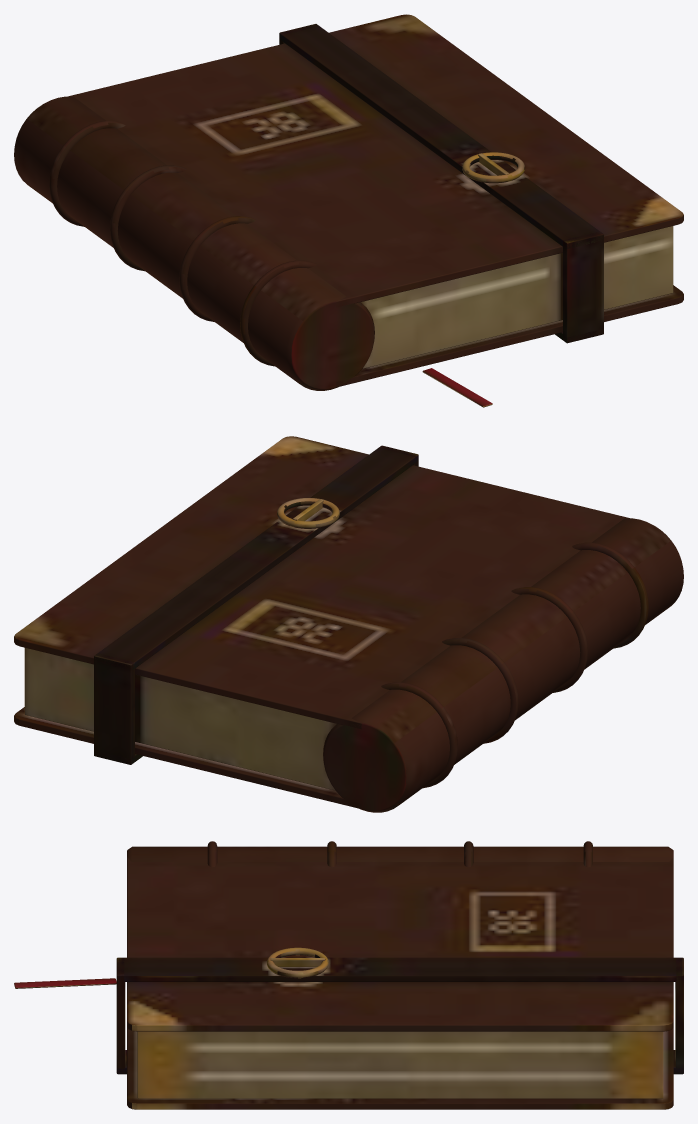
Rendered from ledger_book.glb.
3 views of the same model, one above another, from view 1: azimuth 30°, elevation 25°; view 2: azimuth 150°, elevation 25°; view 3: azimuth 270°, elevation 25° (orthographic).
Visible parts, largest first — view 1: ledger_book; view 2: ledger_book; view 3: ledger_book.
Part boxes in pixels (left/top/right/bottom): ledger_book: left=14, top=14, right=683, bottom=407; ledger_book: left=14, top=436, right=683, bottom=812; ledger_book: left=14, top=841, right=683, bottom=1109.
Bounding box in the file's own units: 0.2688 × 0.0698 × 0.3921.
Materials: 1 (1 with a texture image).
